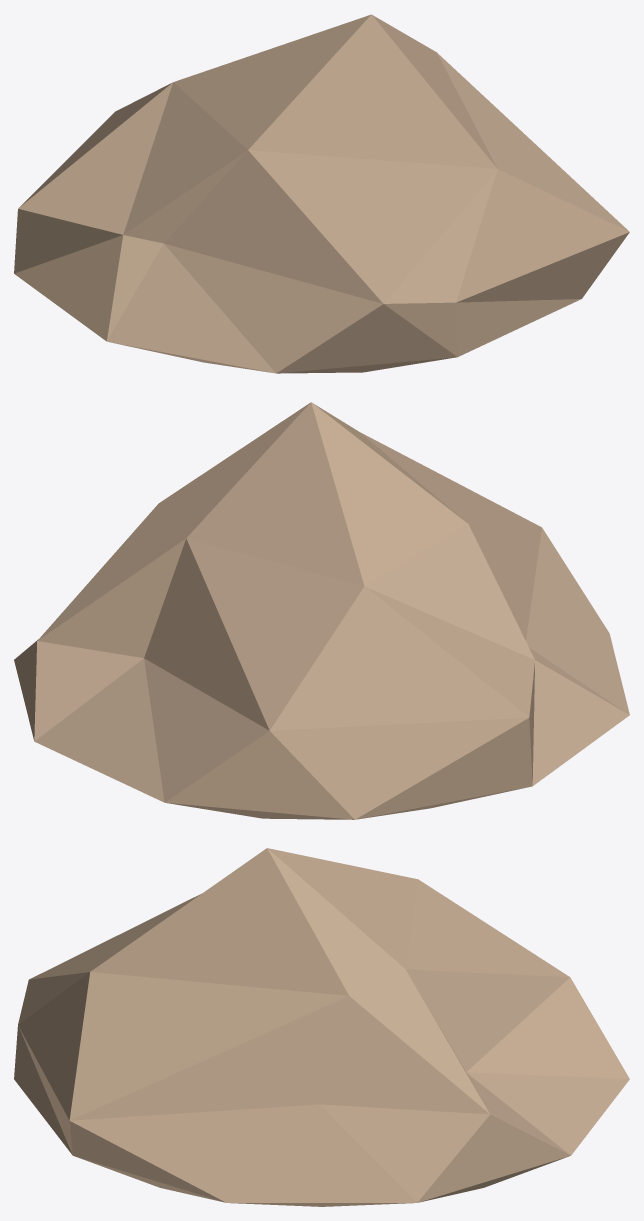
Rendered from Pile Of Sand 2.fbx.
The picture shows the model from 3 angles, top to bottom: view 1: azimuth 30°, elevation 25°; view 2: azimuth 150°, elevation 25°; view 3: azimuth 270°, elevation 25°; orthographic projection. The views are drawn at different scales.
Visible parts, largest first — view 1: Pile Of Sand 2; view 2: Pile Of Sand 2; view 3: Pile Of Sand 2.
Boxes of the visible parts, x1,y1,x2,y2 form: Pile Of Sand 2: (14,14,629,373); Pile Of Sand 2: (14,402,629,819); Pile Of Sand 2: (14,848,629,1206).
Bounding box in the file's own units: 111 × 117 × 59.23.
